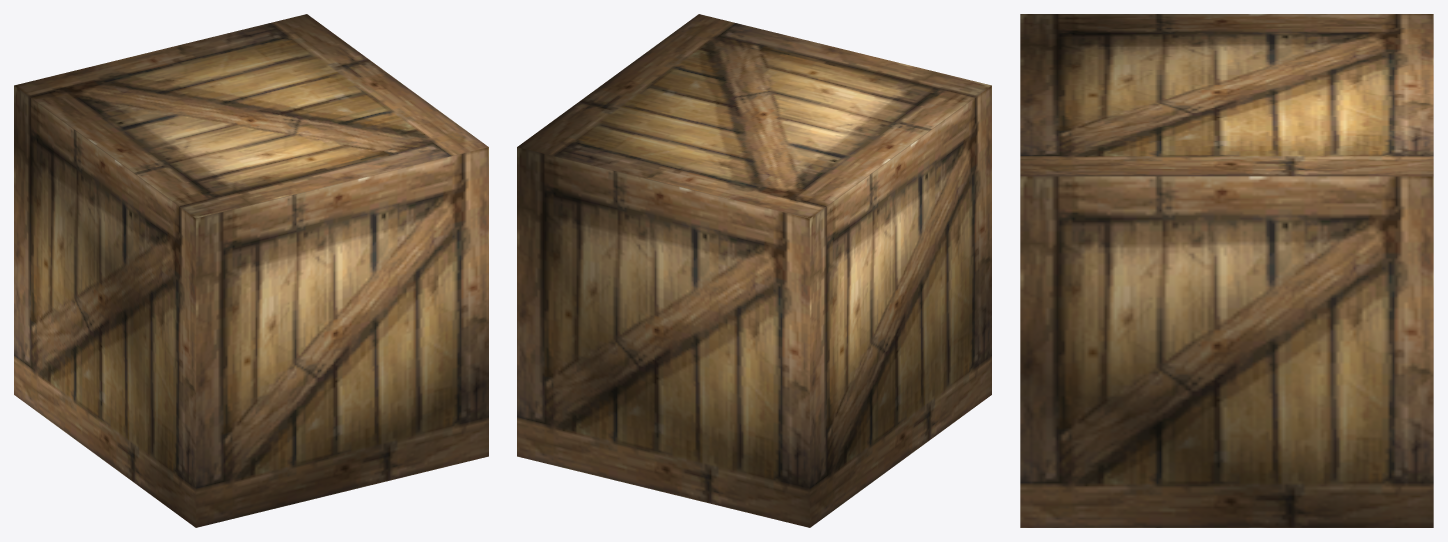
The model's file is stormwindcrate01.obj.
3 renders of one model, left to right at view 1: azimuth 30°, elevation 25°; view 2: azimuth 150°, elevation 25°; view 3: azimuth 270°, elevation 25°, orthographic. The views are drawn at different scales.
Parts seen in each view (by area): view 1: stormwindcrate01; view 2: stormwindcrate01; view 3: stormwindcrate01.
Boxes of the visible parts, bbox=[...] form: stormwindcrate01: bbox=[14, 14, 488, 527]; stormwindcrate01: bbox=[517, 14, 991, 527]; stormwindcrate01: bbox=[1020, 14, 1433, 527].
Size of the model in its own units: 1.23 by 1.24 by 1.32.
1 material, 1 textured.
